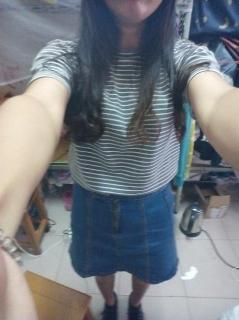short sleeve top: (26, 36, 225, 195)
skirt: (69, 180, 179, 284)
